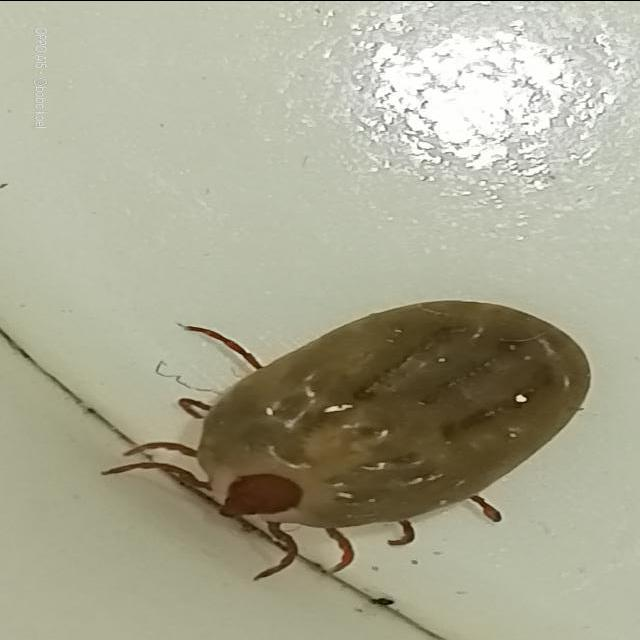Rhipicephalus Sanguineus-F-Fed: (103, 300, 590, 580)
